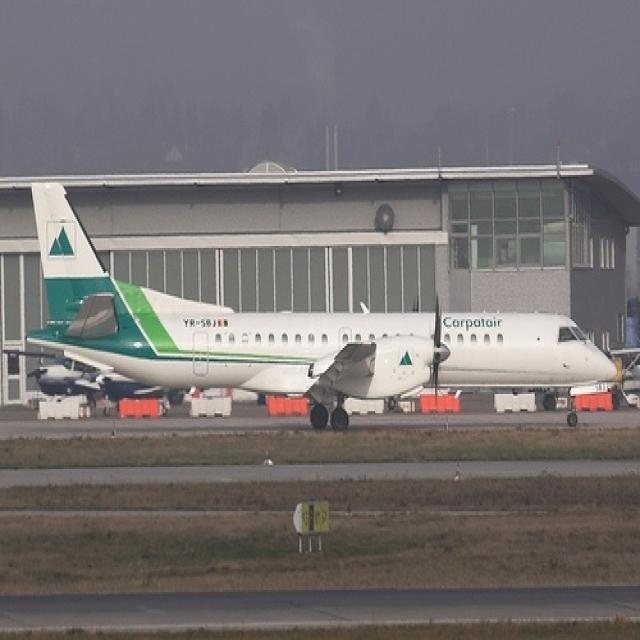aeroplane: (26, 179, 624, 432)
